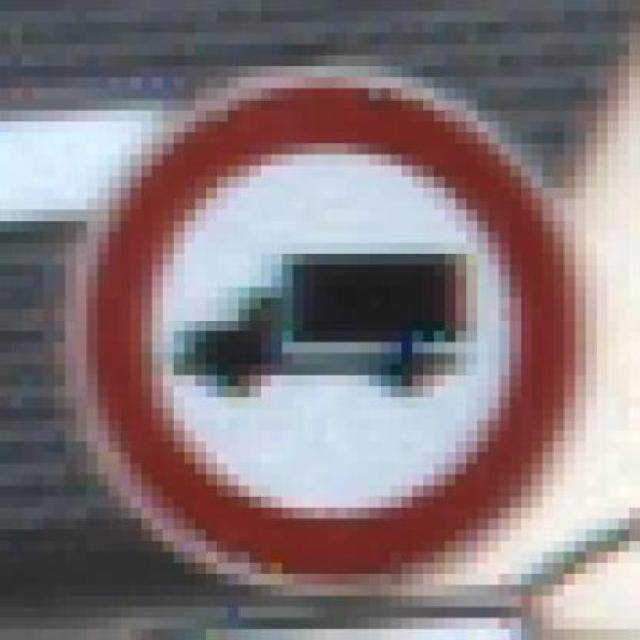Truck traffic is prohibited: (54, 55, 597, 596)
